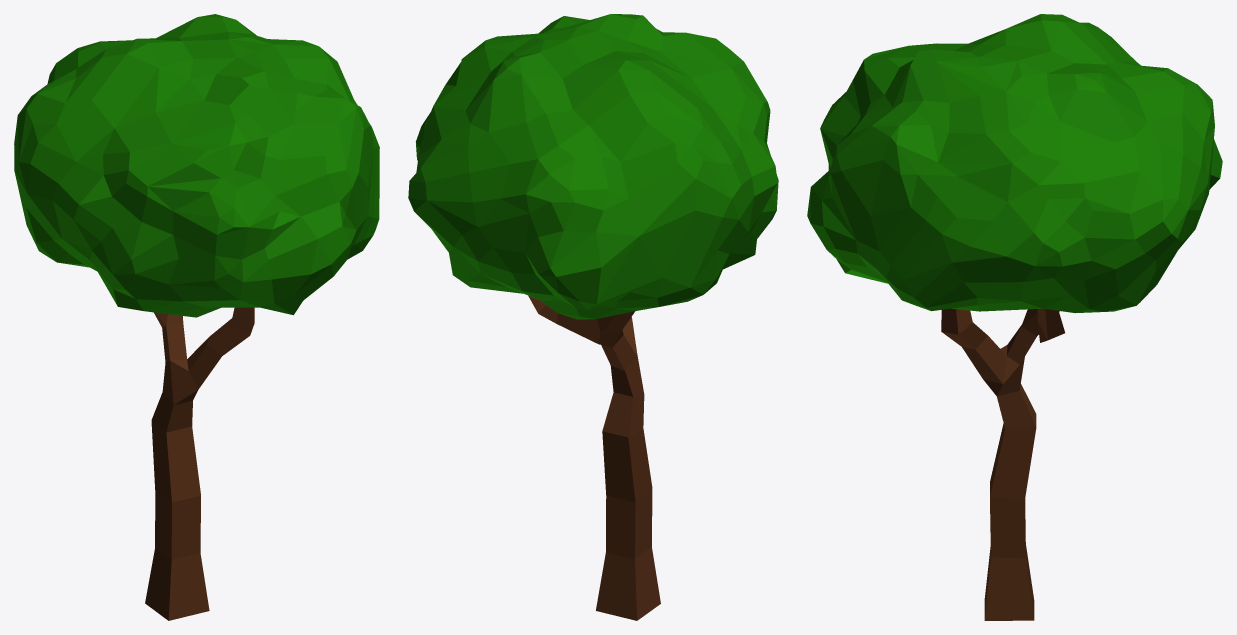
File: arvore1.fbx
The picture shows the model from 3 angles, left to right: view 1: azimuth 30°, elevation 25°; view 2: azimuth 150°, elevation 25°; view 3: azimuth 270°, elevation 25°; orthographic projection. The views are drawn at different scales.
Visible parts, largest first — view 1: Icosphere; view 2: Icosphere; view 3: Icosphere.
Boxes of the visible parts, x1=… form: Icosphere: x1=14, y1=14, x2=379, y2=620; Icosphere: x1=408, y1=14, x2=778, y2=620; Icosphere: x1=807, y1=14, x2=1222, y2=620.
Bounding box in the file's own units: 263 × 438 × 283.
